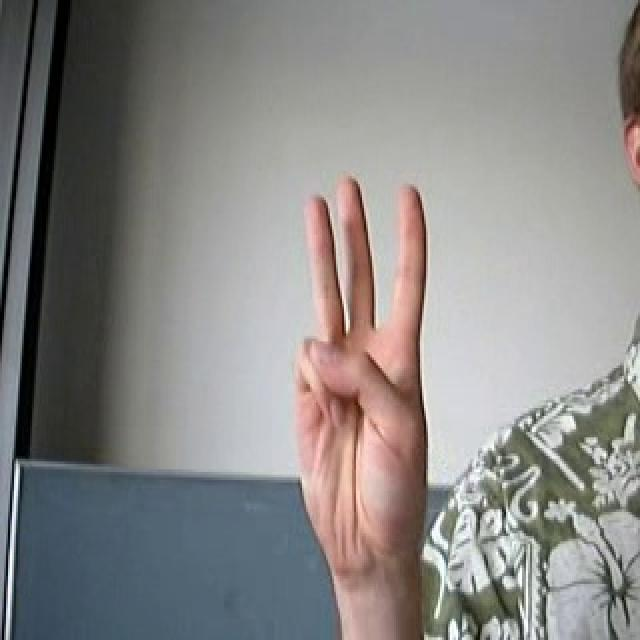W: (244, 159, 461, 605)
